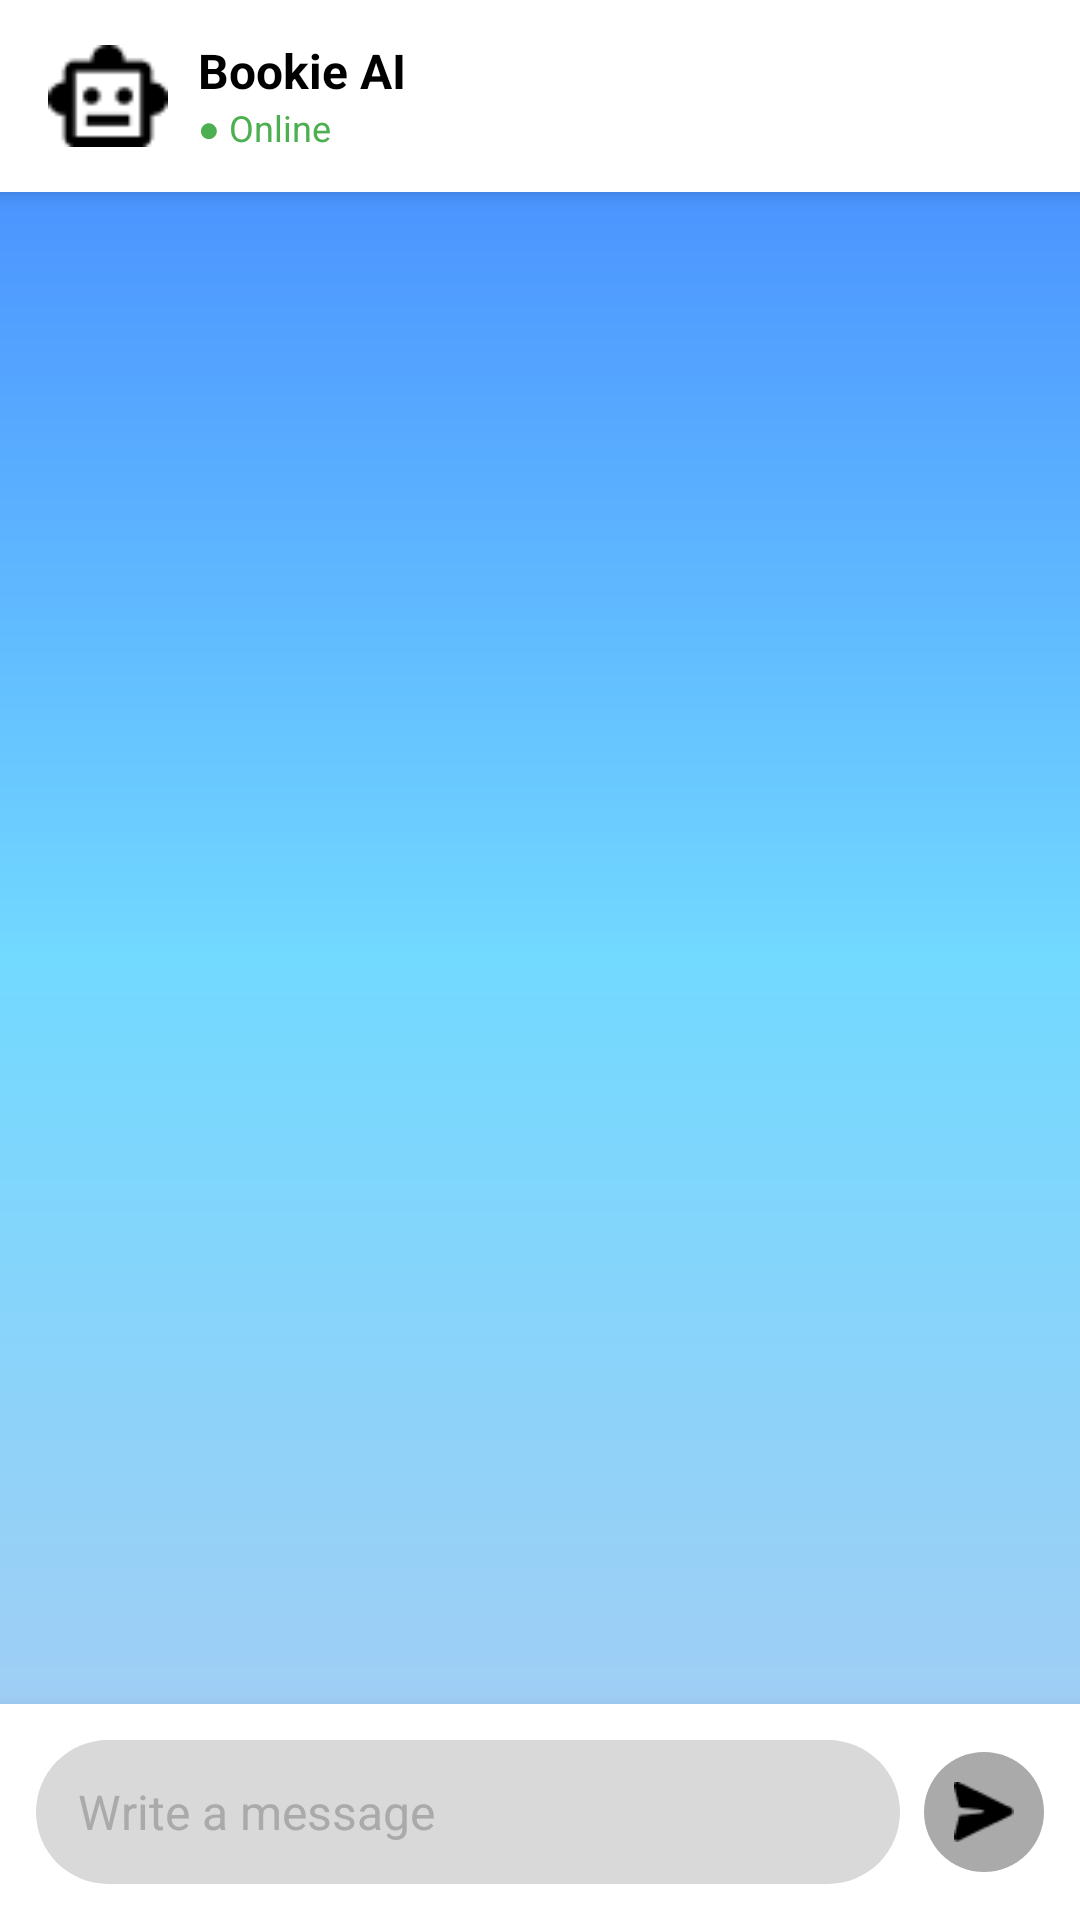

Locate icon controls on the screen. Image size 1080 x 1920, boxes as (x1, y1, x2, y2).
send: (924, 1752, 1044, 1872)
